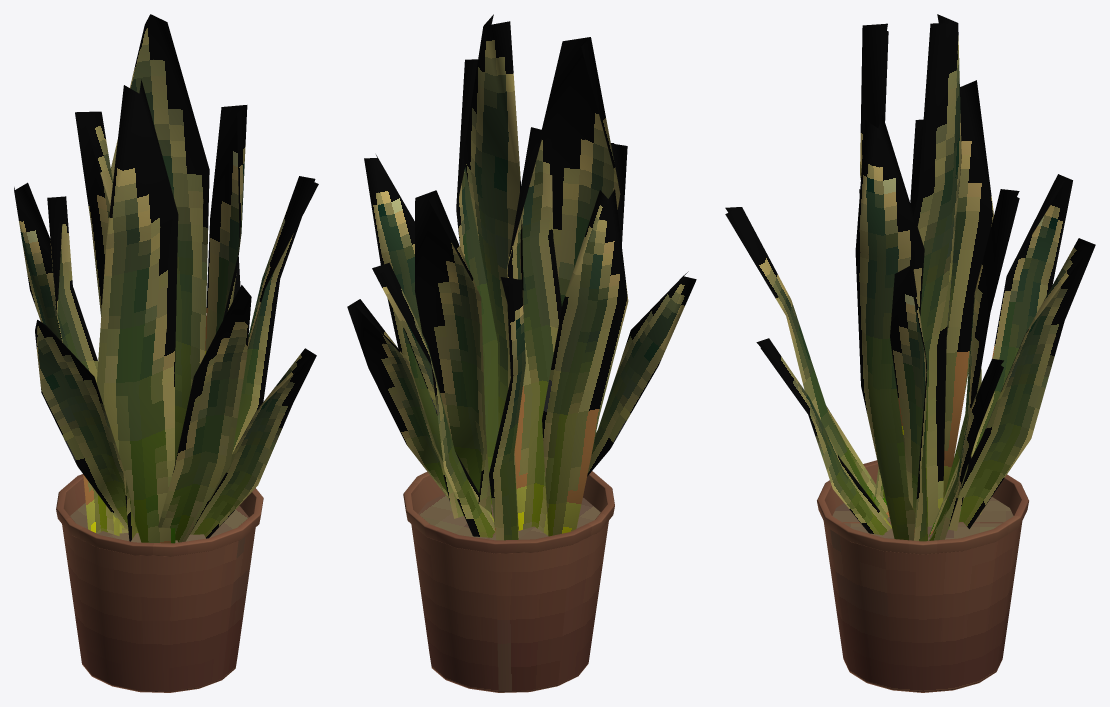
File: a_com_house_a01_plant03.gltf
3 views of the same model, side by side, from view 1: azimuth 30°, elevation 25°; view 2: azimuth 150°, elevation 25°; view 3: azimuth 270°, elevation 25° (orthographic). The views are drawn at different scales.
Visible parts, largest first — view 1: um_a_com_house_a01_plant03_model_a_com_house_a01_plant03_mod (×2); view 2: um_a_com_house_a01_plant03_model_a_com_house_a01_plant03_mod (×2); view 3: um_a_com_house_a01_plant03_model_a_com_house_a01_plant03_mod (×2).
Boxes of the visible parts, bbox=[...] form: um_a_com_house_a01_plant03_model_a_com_house_a01_plant03_mod (×2): bbox=[14, 14, 318, 692]; um_a_com_house_a01_plant03_model_a_com_house_a01_plant03_mod (×2): bbox=[347, 14, 696, 692]; um_a_com_house_a01_plant03_model_a_com_house_a01_plant03_mod (×2): bbox=[725, 14, 1095, 692].
Bounding box in the file's own units: 0.7312 × 1.46 × 0.7629.
2 materials, 2 textured.
